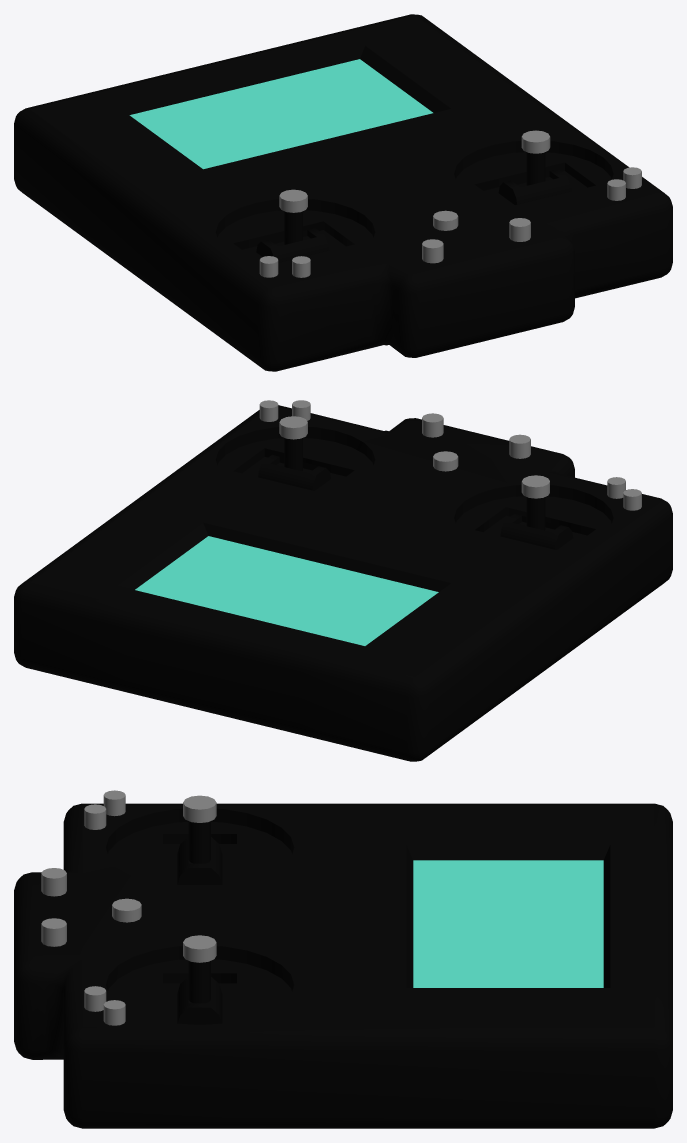
Rendered from Remote.fbx.
3 views of the same model, one above another, from view 1: azimuth 30°, elevation 25°; view 2: azimuth 150°, elevation 25°; view 3: azimuth 270°, elevation 25° (orthographic). The views are drawn at different scales.
Parts seen in each view (by area): view 1: Cube.027, Cylinder.009, Cylinder.006, Cylinder.010, Cylinder.008; view 2: Cube.027, Cylinder.009, Cylinder.006, Cylinder.010, Cylinder.008; view 3: Cube.027, Cylinder.006, Cylinder.009, Cylinder.008, Cylinder.010, Cylinder.007.
Part boxes in pixels (x1,y1,x2,y2): Cube.027: (14,14,672,371); Cylinder.009: (498,130,571,204); Cylinder.006: (259,167,641,277); Cylinder.010: (256,228,328,262); Cylinder.008: (279,189,307,244); Cube.027: (14,405,672,761); Cylinder.009: (258,416,330,490); Cylinder.006: (259,400,641,510); Cylinder.010: (500,514,573,549); Cylinder.008: (521,475,549,530); Cube.027: (14,803,672,1128); Cylinder.006: (41,790,125,1025); Cylinder.009: (177,935,222,1024); Cylinder.008: (183,795,216,863); Cylinder.010: (177,837,222,884); Cylinder.007: (112,898,141,922).
Bounding box in the file's own units: 16.32 × 4.58 × 19.1.
